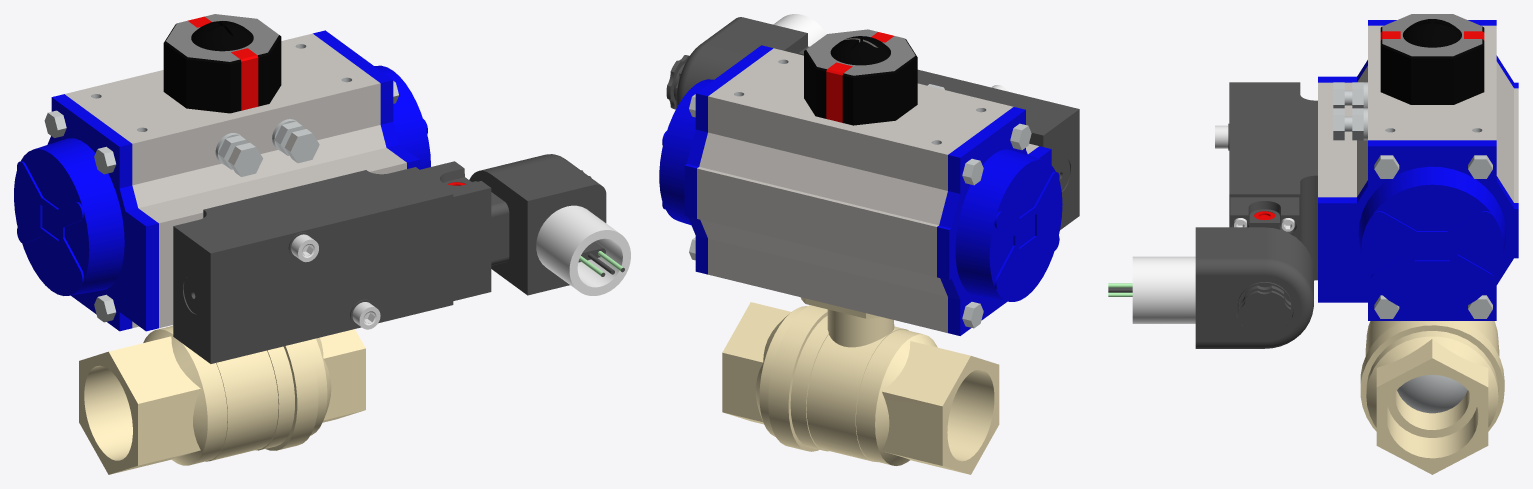
The model's file is qidongfa.glb.
The picture shows the model from 3 angles, left to right: view 1: azimuth 30°, elevation 25°; view 2: azimuth 150°, elevation 25°; view 3: azimuth 270°, elevation 25°; orthographic projection. The views are drawn at different scales.
Parts seen in each view (by area): view 1: IP-2P-10-52-SRAVSOL724VD; view 2: IP-2P-10-52-SRAVSOL724VD; view 3: IP-2P-10-52-SRAVSOL724VD.
Part boxes in pixels (bbox=[...]): IP-2P-10-52-SRAVSOL724VD: bbox=[14, 14, 630, 474]; IP-2P-10-52-SRAVSOL724VD: bbox=[659, 14, 1079, 474]; IP-2P-10-52-SRAVSOL724VD: bbox=[1108, 14, 1518, 474].
Size of the model in its own units: 23.36 by 21.41 by 19.57.
